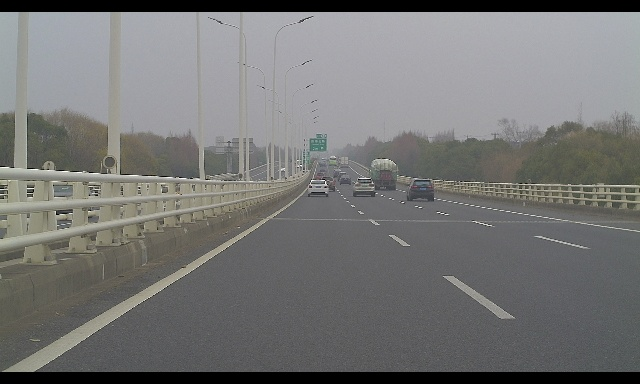bus: (329, 156, 337, 166)
car: (37, 184, 94, 218), (405, 178, 434, 202), (353, 177, 376, 197), (306, 179, 328, 197), (321, 176, 337, 192), (339, 175, 351, 185), (314, 172, 325, 181), (333, 170, 342, 178), (320, 169, 327, 176), (333, 165, 340, 172), (280, 166, 286, 172), (297, 162, 303, 167)
truck: (368, 158, 399, 190), (340, 156, 349, 168)
